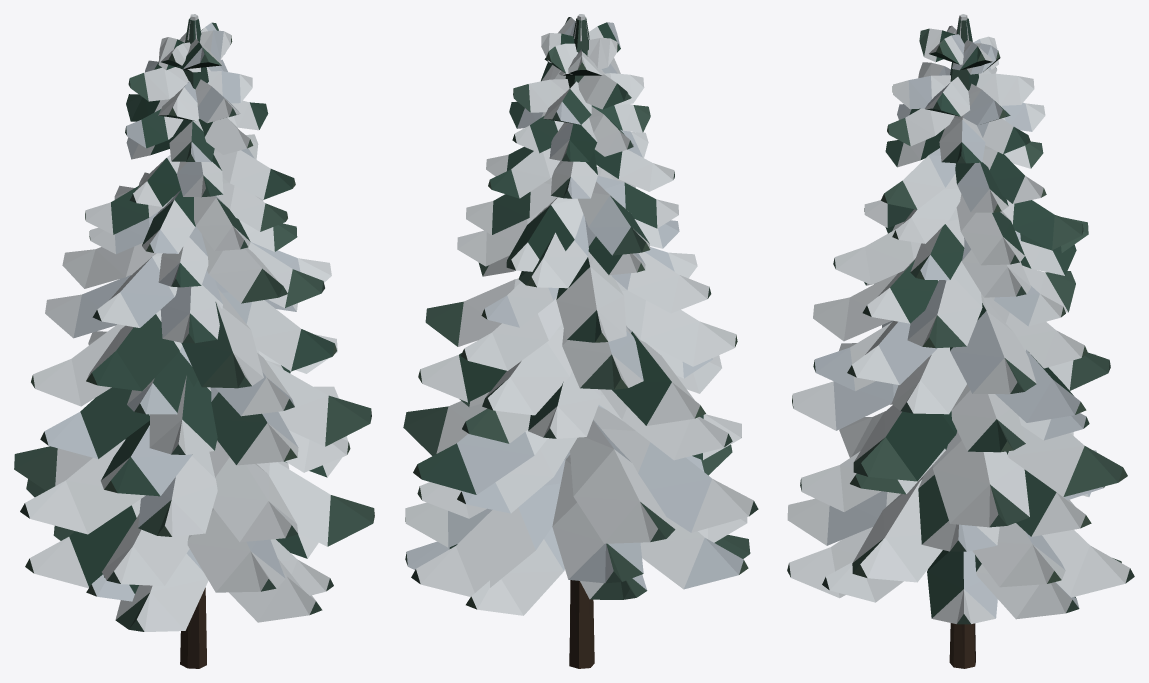
File: pine-small-snow.glb
The picture shows the model from 3 angles, left to right: view 1: azimuth 30°, elevation 25°; view 2: azimuth 150°, elevation 25°; view 3: azimuth 270°, elevation 25°; orthographic projection.
Parts seen in each view (by area): view 1: pine-small-snow; view 2: pine-small-snow; view 3: pine-small-snow.
Part boxes in pixels (left/top/right/bottom): pine-small-snow: left=14, top=14, right=374, bottom=668; pine-small-snow: left=403, top=14, right=758, bottom=668; pine-small-snow: left=787, top=14, right=1134, bottom=668.
Size of the model in its own units: 2.14 by 4.02 by 1.96.
